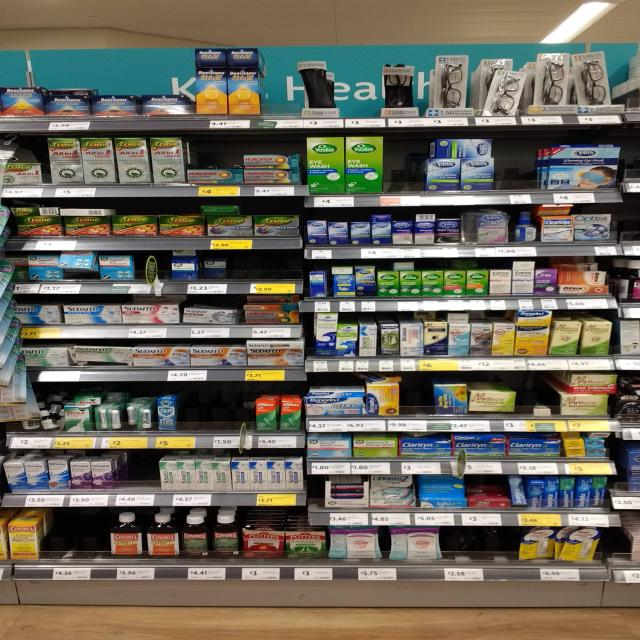void: (45, 515, 103, 577), (450, 531, 515, 581), (237, 256, 302, 296), (518, 374, 561, 434), (340, 64, 378, 131), (390, 139, 425, 206), (501, 139, 534, 204), (219, 387, 250, 452), (268, 59, 295, 133), (182, 390, 212, 452), (123, 449, 151, 506), (403, 386, 428, 434)
